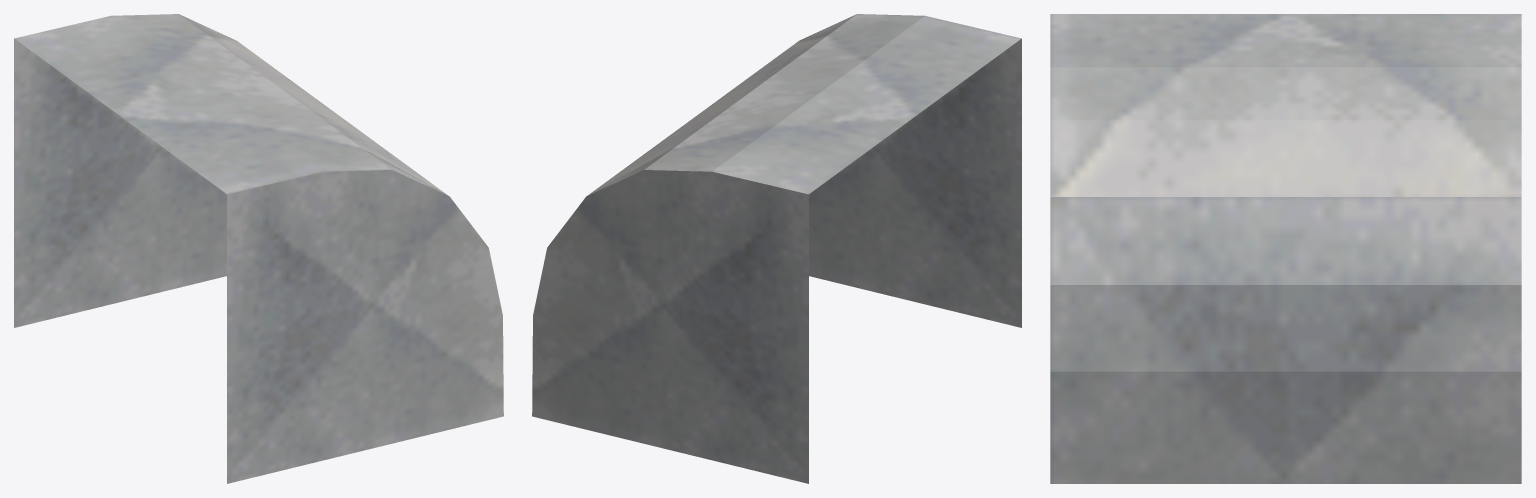
Rendered from duct_turn_90_short.fbx.
The picture shows the model from 3 angles, left to right: view 1: azimuth 30°, elevation 25°; view 2: azimuth 150°, elevation 25°; view 3: azimuth 270°, elevation 25°; orthographic projection. The views are drawn at different scales.
Parts seen in each view (by area): view 1: duct_turn; view 2: duct_turn; view 3: duct_turn.
Part boxes in pixels (left/top/right/bottom): duct_turn: left=14, top=14, right=503, bottom=483; duct_turn: left=532, top=14, right=1021, bottom=483; duct_turn: left=1050, top=14, right=1521, bottom=483.
Bounding box in the file's own units: 120 × 120 × 160.
